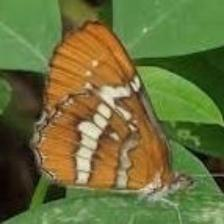butterfly: (36, 22, 173, 190)
